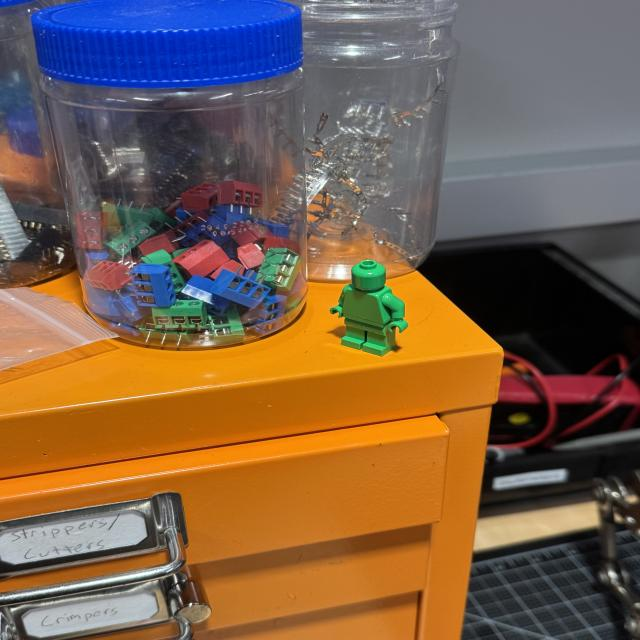Green Mini Figure: (330, 259, 408, 356)
